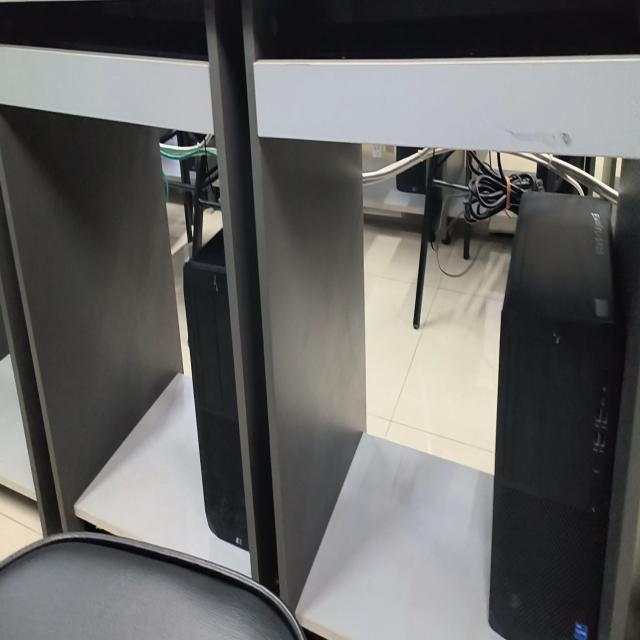Chair: (0, 533, 304, 639)
Cpu: (488, 194, 624, 639), (184, 231, 247, 549)
